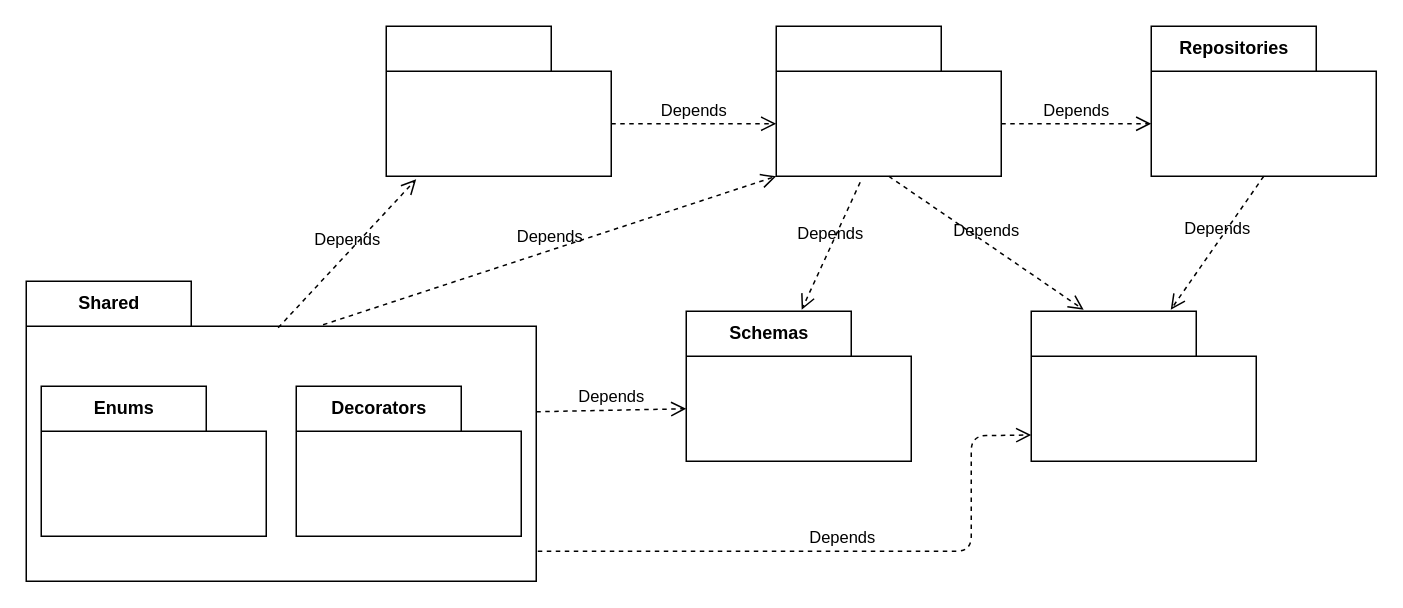
The diagram is 1403 pixels wide and 608 high, and some of its shapes have lost their labels. The shapes that lost their labels are listed below. From the top down, each one's centre as x and y in pixels, then its label:
At pixel 498 100: "Views".
At pixel 888 100: "Controllers".
At pixel 1143 385: "Models".
